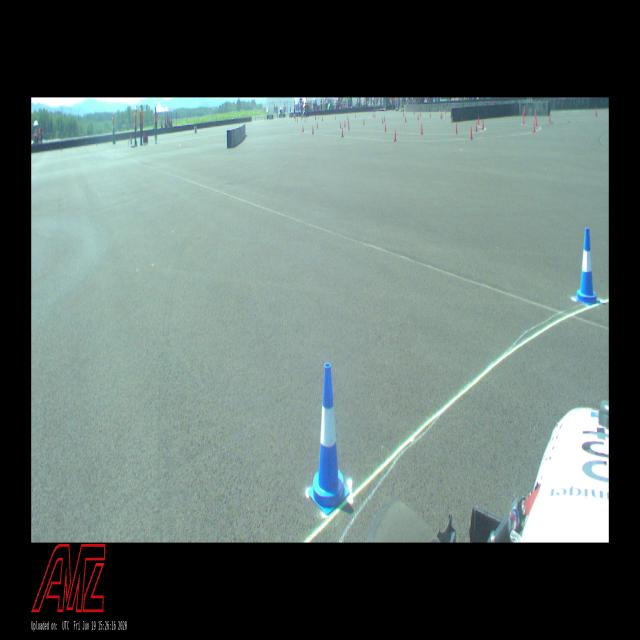blue_cone: (308, 363, 349, 516), (574, 227, 600, 304)
unknown_cone: (341, 127, 344, 137), (470, 126, 472, 139), (456, 122, 458, 134), (394, 130, 396, 142), (533, 121, 535, 132), (421, 123, 423, 134), (482, 120, 484, 129), (384, 123, 386, 132), (595, 108, 597, 116), (344, 120, 346, 128), (312, 126, 314, 133), (363, 118, 365, 125), (348, 123, 350, 130), (302, 125, 304, 132), (476, 120, 477, 132), (374, 112, 376, 118), (316, 122, 318, 128), (524, 106, 525, 117), (523, 113, 524, 124), (536, 116, 537, 126), (549, 112, 550, 121), (478, 115, 479, 124), (535, 111, 536, 119), (304, 118, 306, 122), (441, 112, 442, 119), (430, 110, 431, 117), (384, 115, 385, 122), (382, 117, 383, 124), (348, 117, 349, 124), (405, 116, 406, 122), (403, 110, 404, 116), (347, 114, 348, 120), (340, 122, 341, 128), (335, 114, 336, 120), (445, 109, 446, 114), (420, 111, 421, 116), (322, 116, 323, 121), (373, 112, 374, 117), (297, 118, 298, 122), (315, 116, 316, 120), (355, 114, 356, 118), (442, 111, 442, 118), (418, 114, 418, 120), (414, 110, 414, 115), (296, 118, 296, 122), (302, 116, 302, 120), (318, 115, 318, 119)
